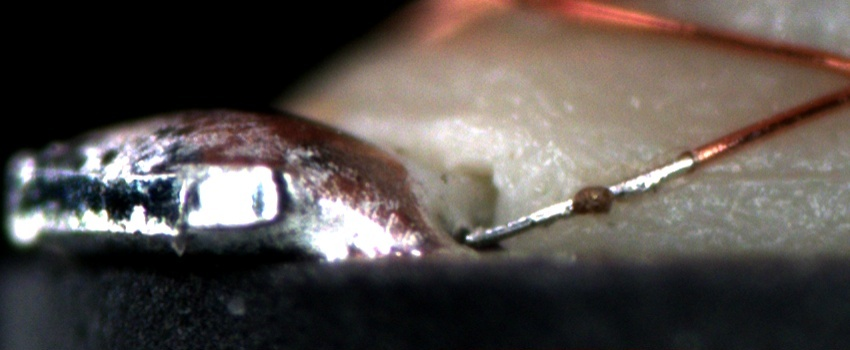DL: (685, 145, 850, 209)
TS: (463, 153, 697, 245)
